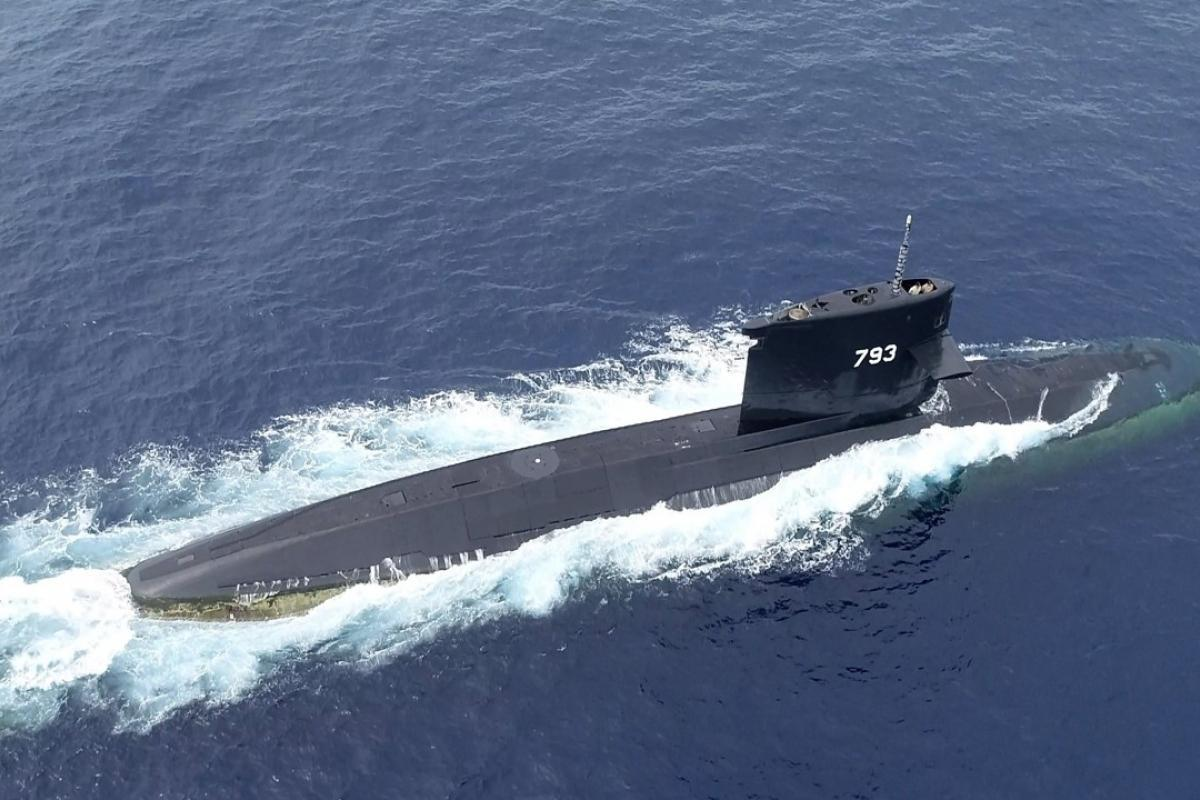Submarine: (44, 212, 1200, 718)
